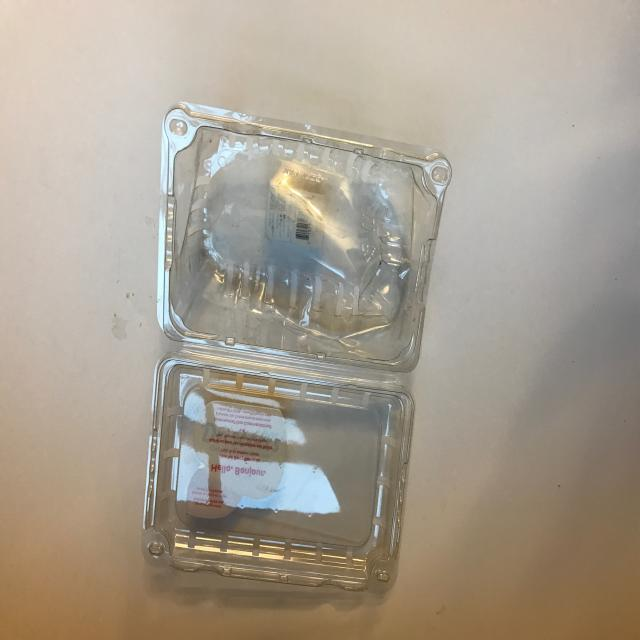plastic: (60, 71, 488, 632)
